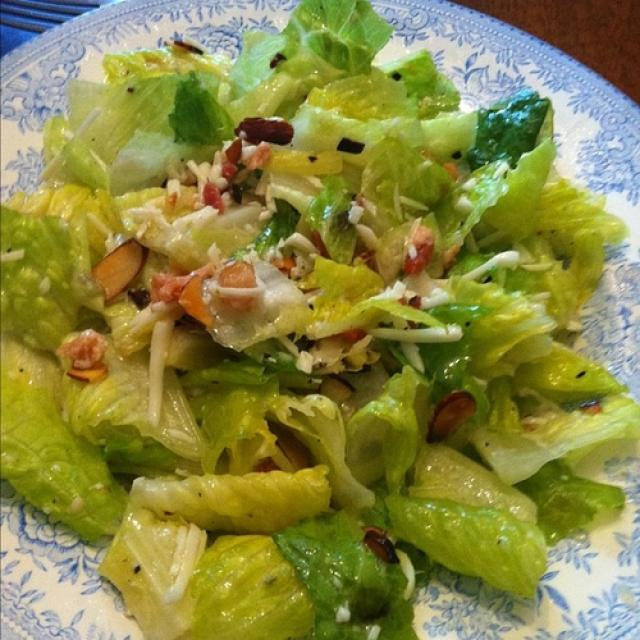蔬菜料理: (9, 15, 619, 621)
